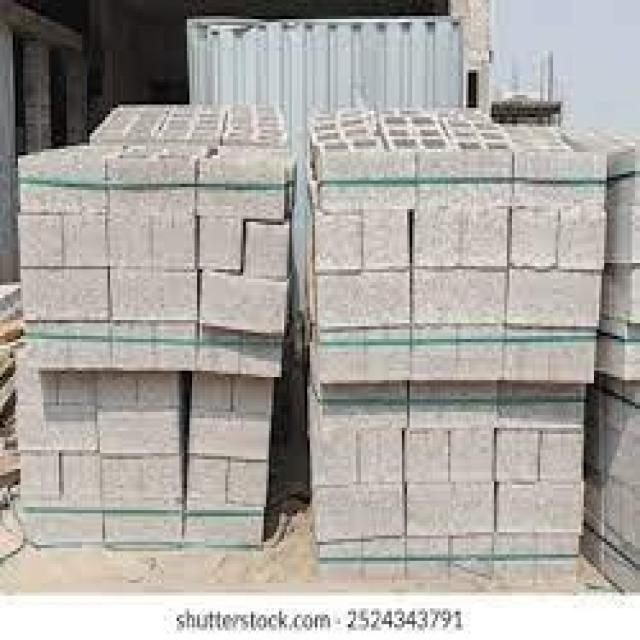bricks: (310, 108, 604, 396), (20, 105, 289, 383)
